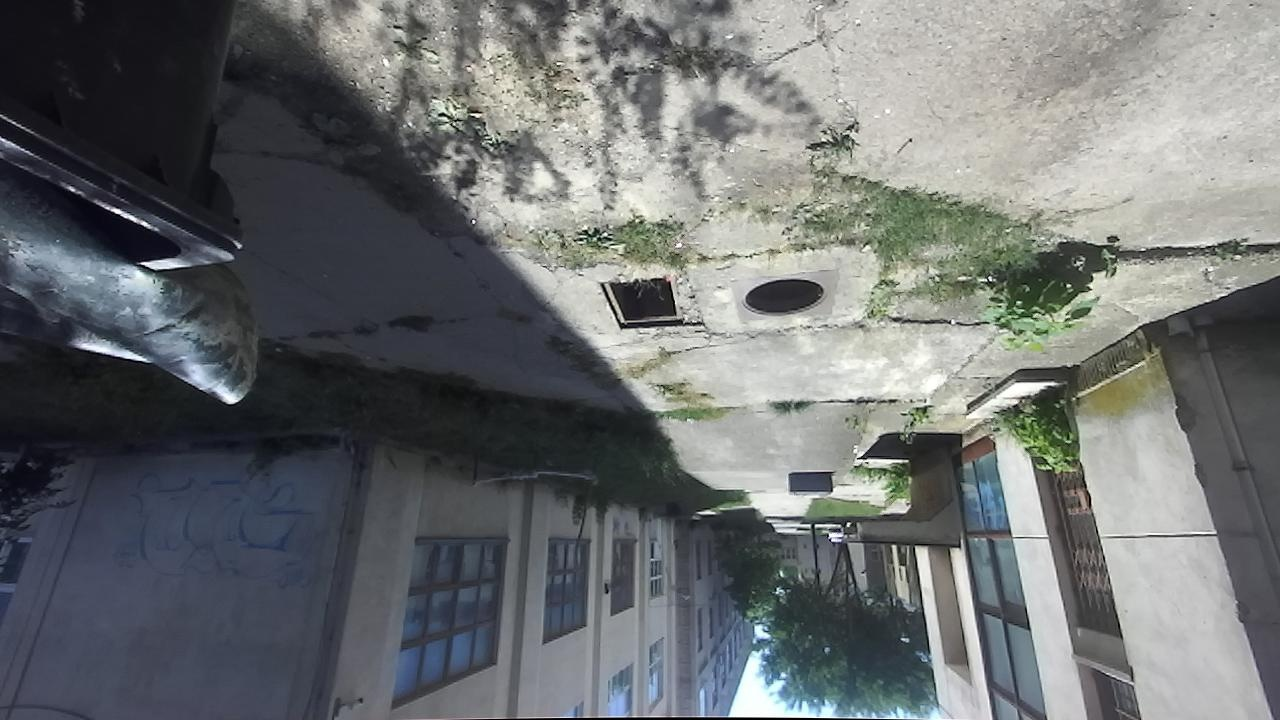drain: (596, 280, 707, 328), (738, 278, 833, 318)
